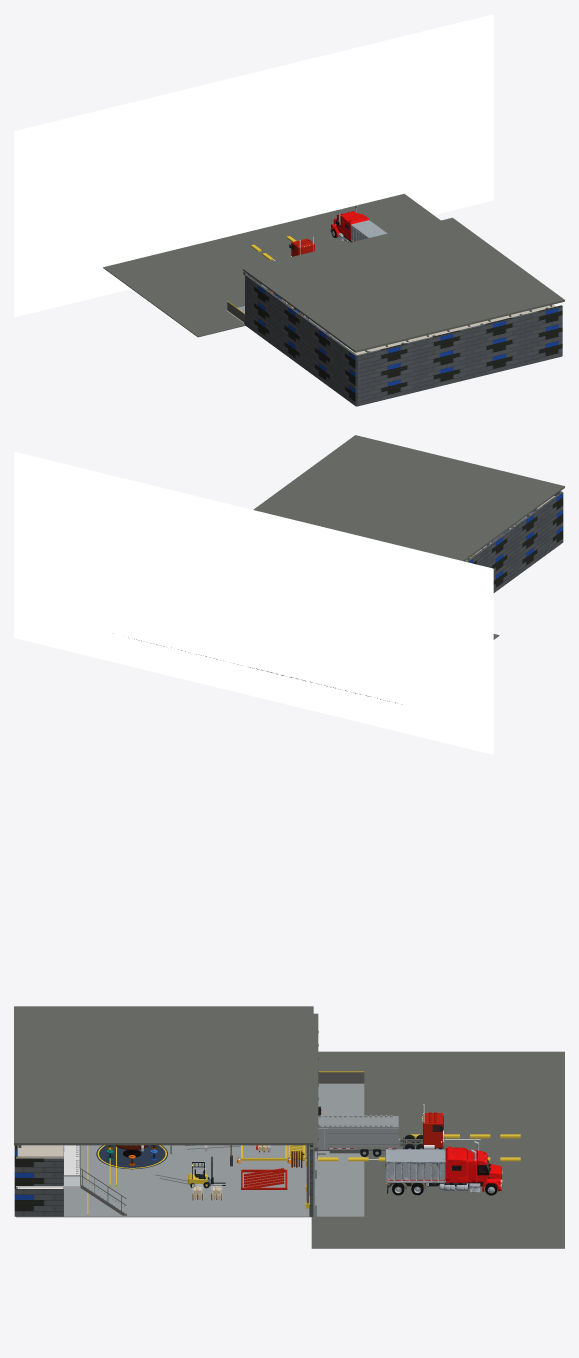
File: dock.glb
3 renders of one model, top to bottom at view 1: azimuth 30°, elevation 25°; view 2: azimuth 150°, elevation 25°; view 3: azimuth 270°, elevation 25°, orthographic. The views are drawn at different scales.
Parts seen in each view (by area): view 1: static_p_sky, static_p_roof_steel, static_p_lf_base, static_p_wall_back, static_p_wall_side, static_Material_0.005, static_p_room_ceilwarm; view 2: static_p_sky, static_p_roof_steel, static_p_wall_side; view 3: static_p_roof_steel, static_p_lf_base, static_p_floor, static_Material_0.005, static_p_room_pale, static_p_trailer, static_p_dark_steel, static_p_meet_rugmat, static_p_red, static_p_yellow, static_p_lf_fascia, static_p_ceil (+1 smaller).
Part boxes in pixels (box(x1,y1,x2,y2)): static_p_sky: box(14, 14, 493, 317); static_p_roof_steel: box(243, 217, 564, 352); static_p_lf_base: box(103, 193, 440, 337); static_p_wall_back: box(245, 274, 562, 406); static_p_wall_side: box(245, 275, 356, 406); static_Material_0.005: box(330, 205, 387, 243); static_p_room_ceilwarm: box(345, 304, 555, 354); static_p_sky: box(14, 451, 493, 754); static_p_roof_steel: box(253, 435, 564, 561); static_p_wall_side: box(467, 492, 563, 592); static_p_roof_steel: box(14, 1006, 313, 1145); static_p_lf_base: box(311, 1051, 564, 1248); static_p_floor: box(16, 1083, 364, 1217); static_Material_0.005: box(385, 1141, 502, 1195); static_p_room_pale: box(16, 1158, 63, 1216); static_p_trailer: box(318, 1115, 398, 1149); static_p_dark_steel: box(63, 1122, 444, 1215); static_p_meet_rugmat: box(96, 1145, 167, 1169); static_p_red: box(241, 1148, 396, 1189); static_p_yellow: box(87, 1071, 364, 1216); static_p_lf_fascia: box(313, 1013, 318, 1151); static_p_ceil: box(63, 1145, 80, 1187).
Size of the model in its own units: 70 by 26 by 52.2.
182 materials, 12 textured.
